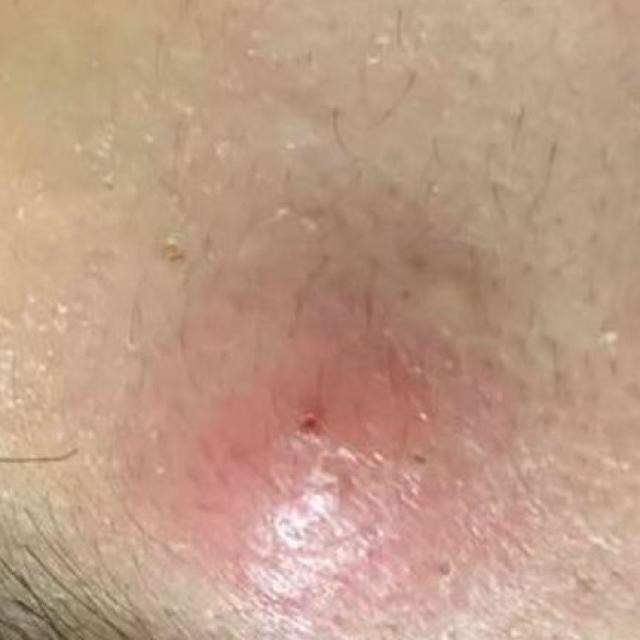nodule: (84, 317, 526, 624)
